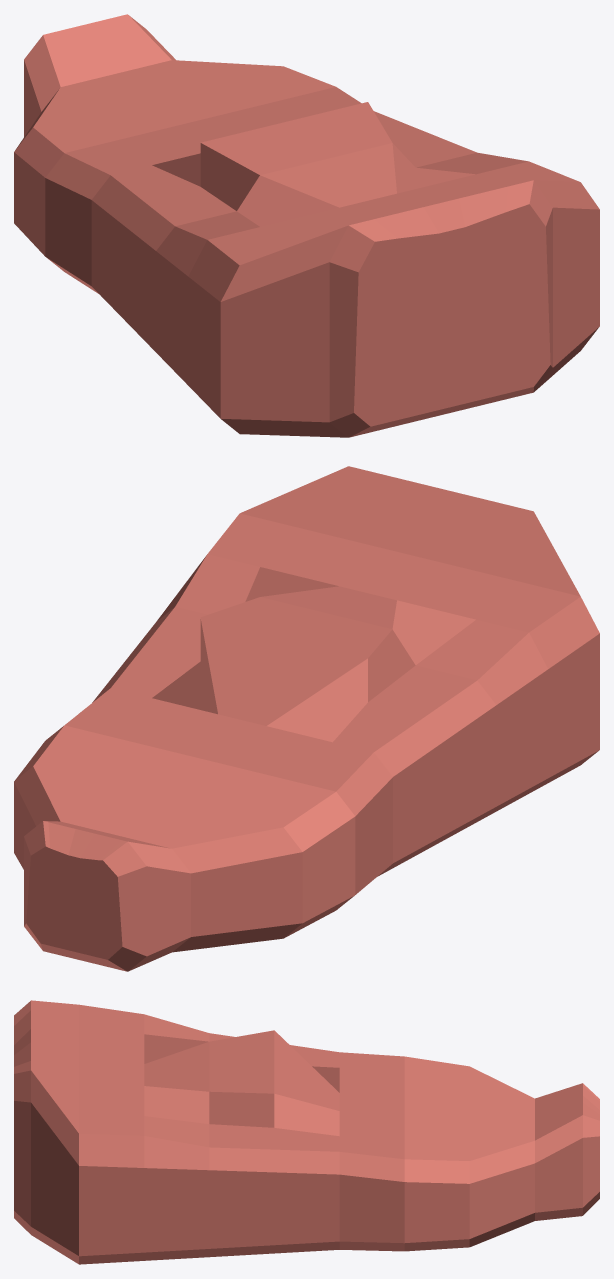
Rendered from calder_heavy_a.glb.
3 renders of one model, top to bottom at view 1: azimuth 30°, elevation 25°; view 2: azimuth 150°, elevation 25°; view 3: azimuth 270°, elevation 25°, orthographic. The views are drawn at different scales.
Visible parts, largest first — view 1: calder_heavy_a; view 2: calder_heavy_a; view 3: calder_heavy_a.
Boxes of the visible parts, x1,y1,x2,y2 form: calder_heavy_a: (14, 14, 599, 437); calder_heavy_a: (14, 466, 599, 971); calder_heavy_a: (14, 1000, 599, 1264).
Bounding box in the file's own units: 4 × 2.14 × 6.9.
